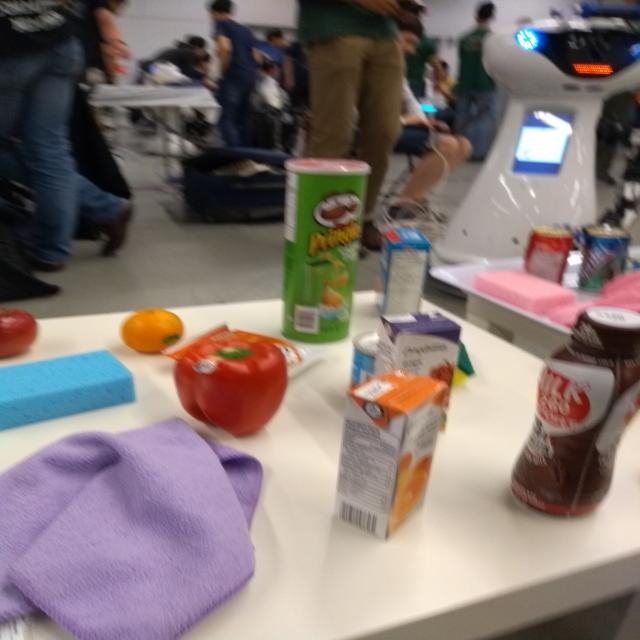cereal: (381, 222, 423, 315)
chocolate_drink: (503, 302, 640, 524)
grape_juice: (371, 311, 465, 381)
orange: (120, 306, 184, 357)
orange_juice: (332, 370, 438, 539)
paprika: (174, 339, 293, 439)
pringles: (270, 155, 375, 347)
